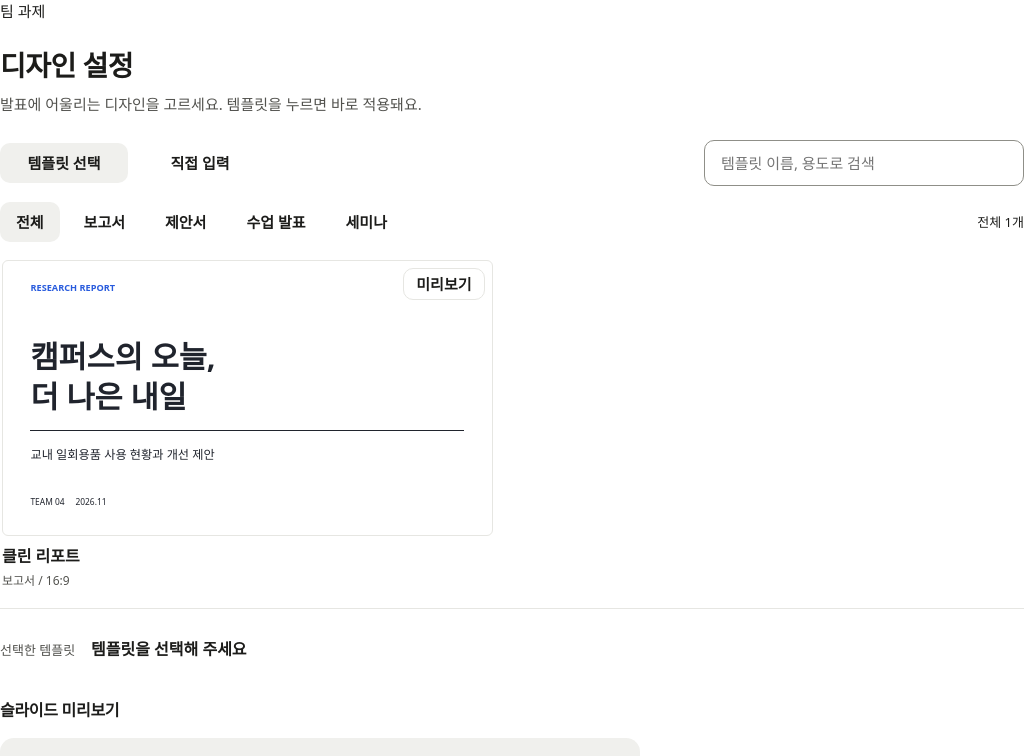
it: 상세 미리보기는 서버가 그린 실제 배치를 이름과 함께 보여 주고 실패하면 시안을 두고 다시 시도한다
Click the button with aria-label "클린 리포트 미리보기" at (444, 284), box x1=403 y1=268 x2=484 y2=300
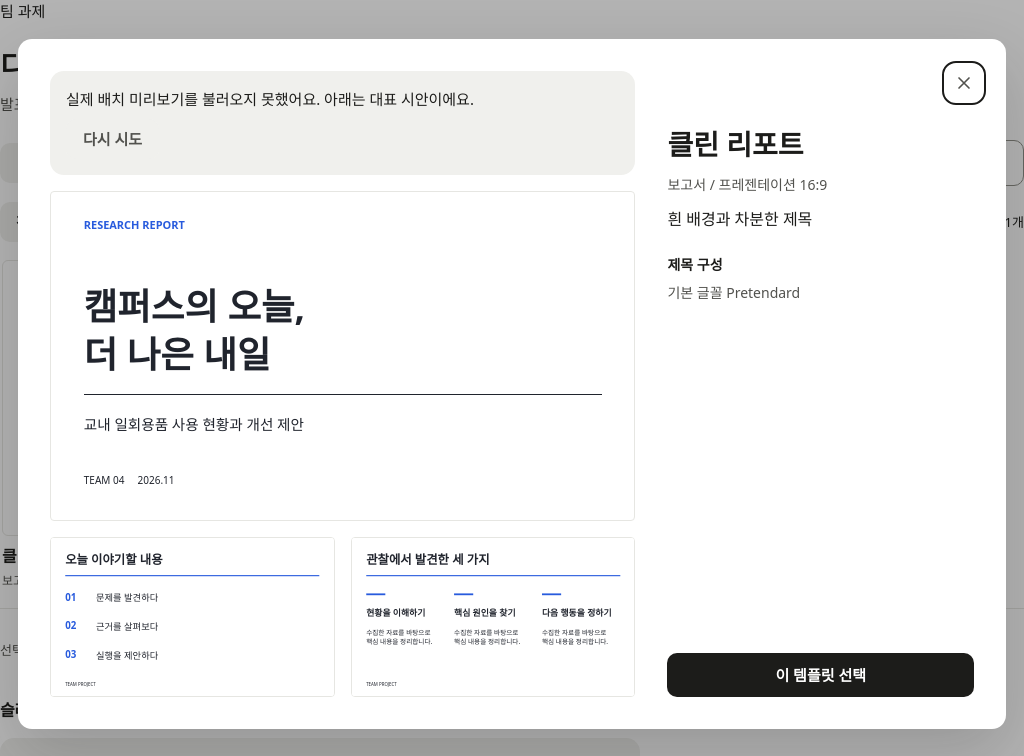
Expected: the message "실제 배치 미리보기를 불러오지 못했어요. 아래는 대표 시안이에요. 다시 시도" is shown, x1=50 y1=71 x2=635 y2=175
Expected: the text "오늘 이야기할 내용" is shown, x1=65 y1=550 x2=163 y2=567
Click the button "다시 시도" at (113, 139), box x1=66 y1=119 x2=159 y2=159
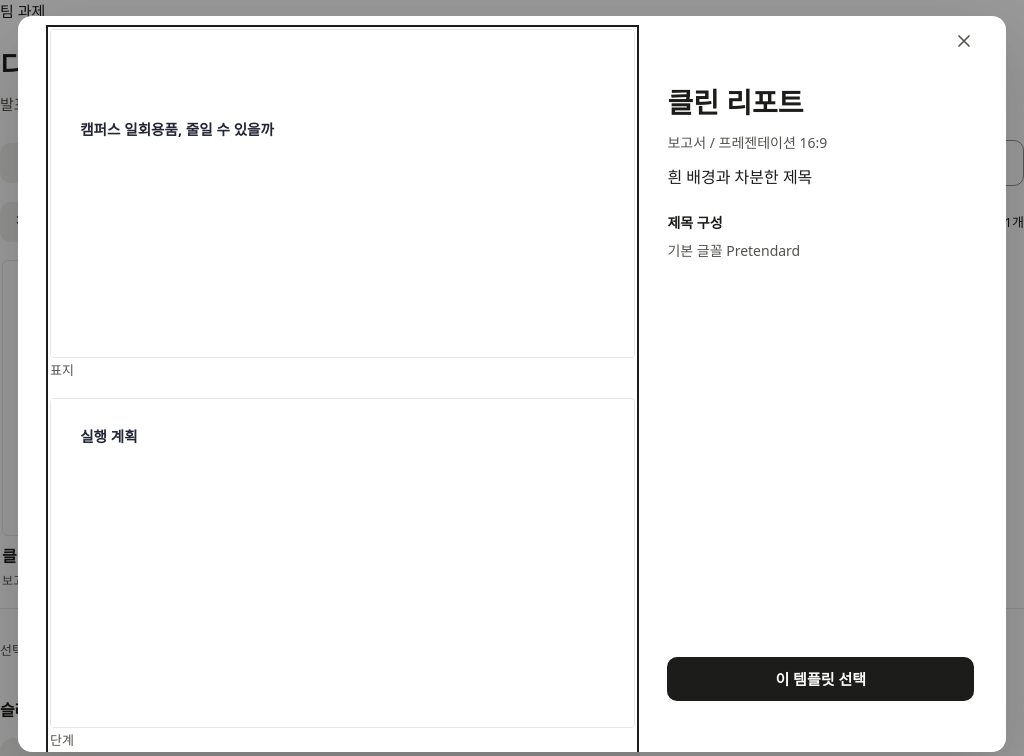
Expected: the text "캠퍼스 일회용품, 줄일 수 있을까" is shown, x1=80 y1=121 x2=299 y2=143
Expected: the text "표지" is shown, x1=50 y1=361 x2=74 y2=379
Expected: the text "단계" is shown, x1=50 y1=730 x2=74 y2=748
